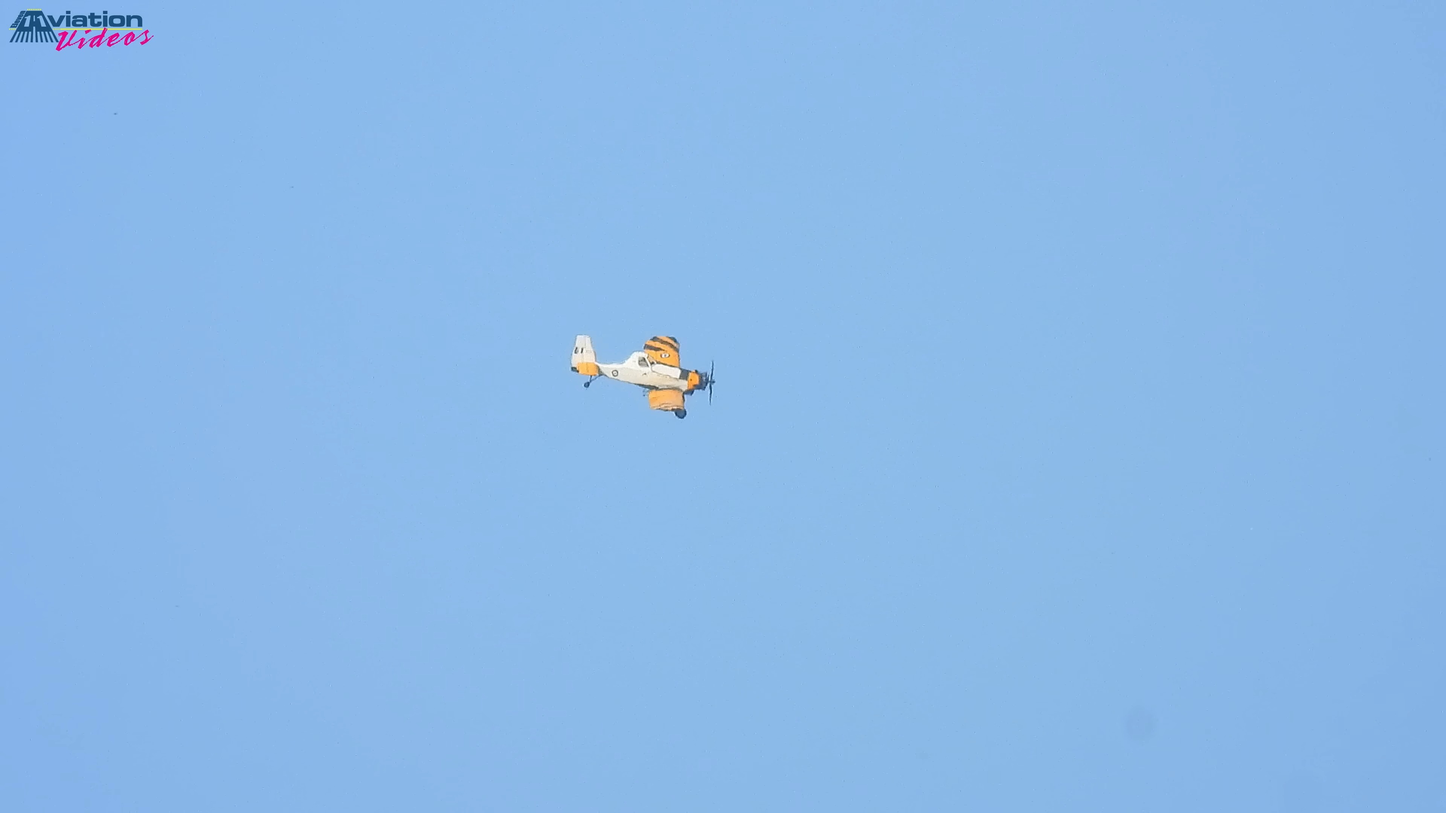airplane: (565, 324, 737, 421)
